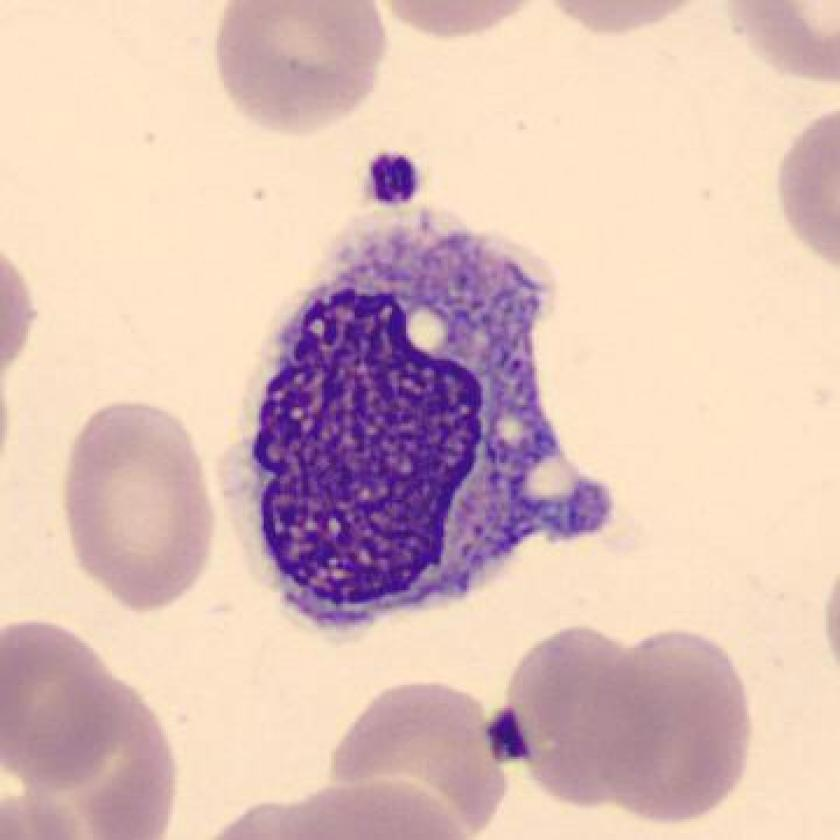monocyte: (213, 200, 631, 649)
